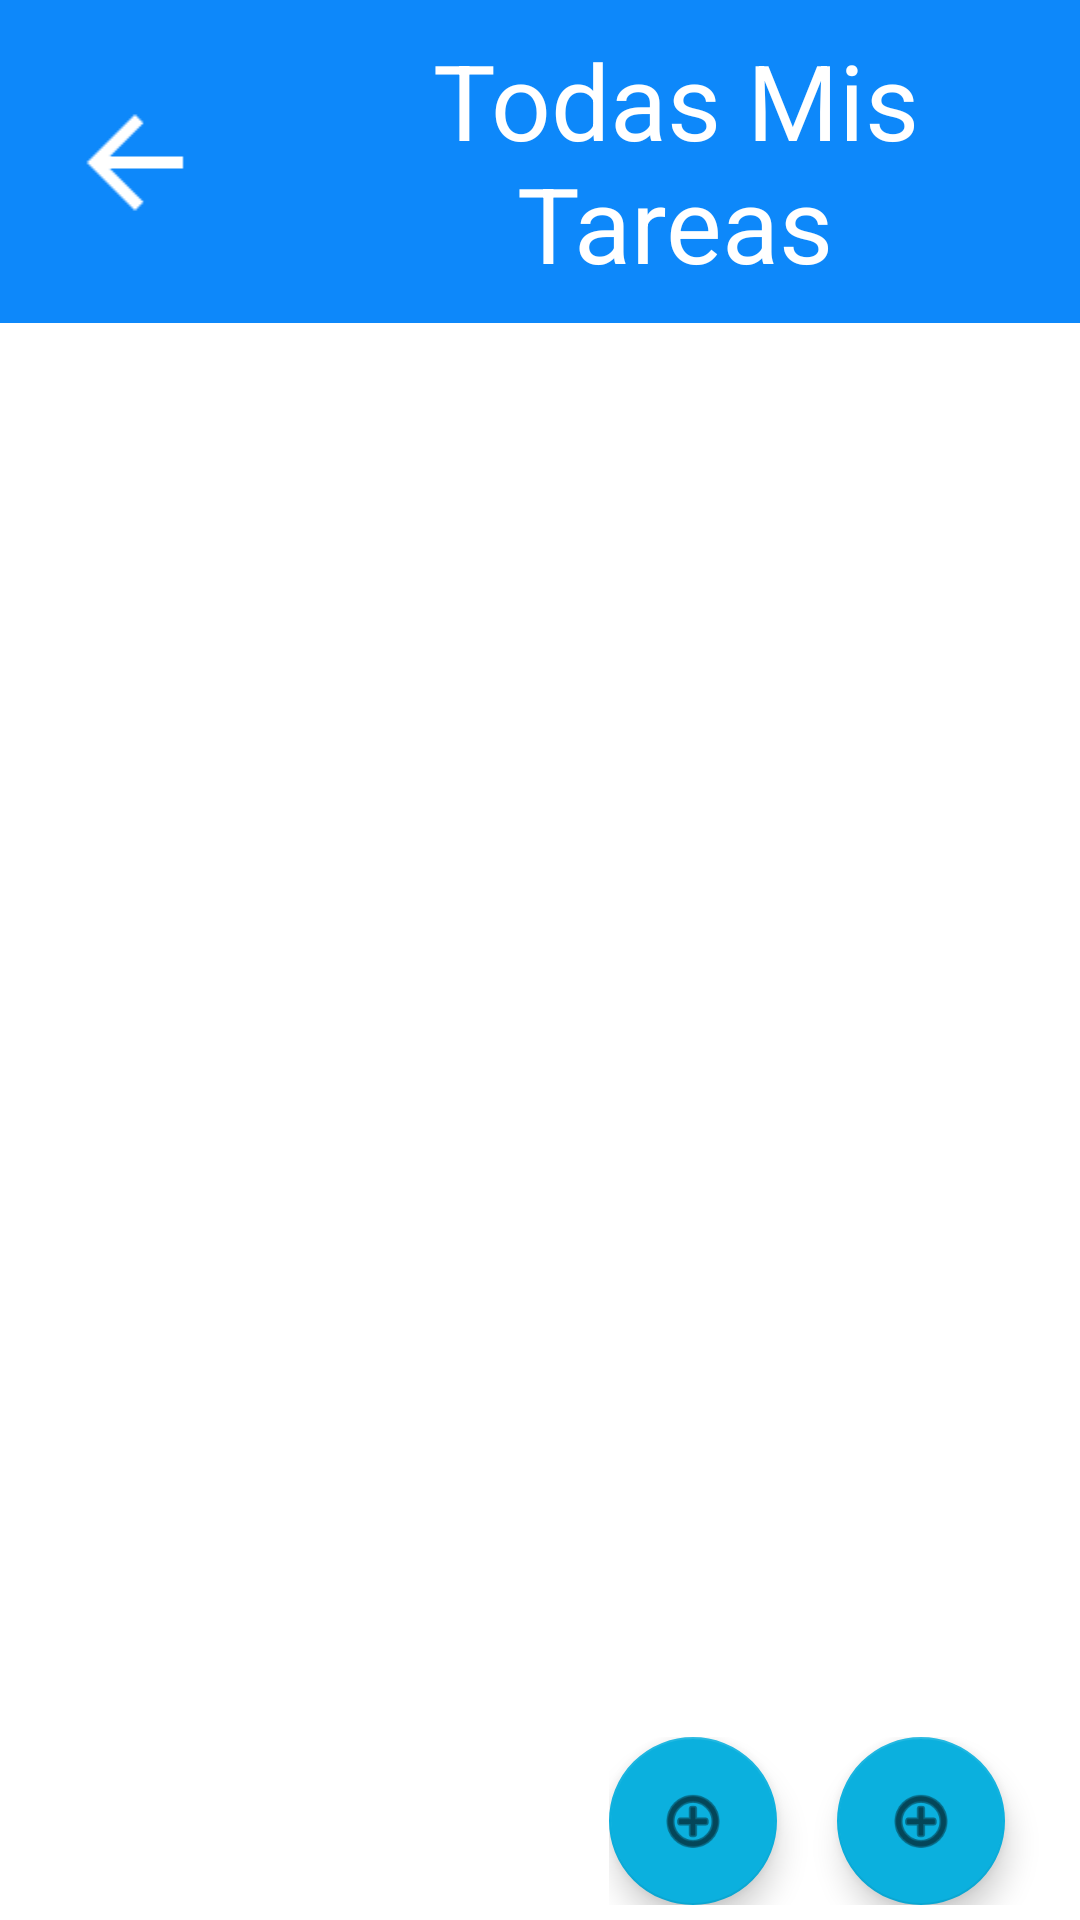

Icon click points for this 1080 x 1920 phone screenshot, format [x,y]:
add: [693,1821], [921,1821]
